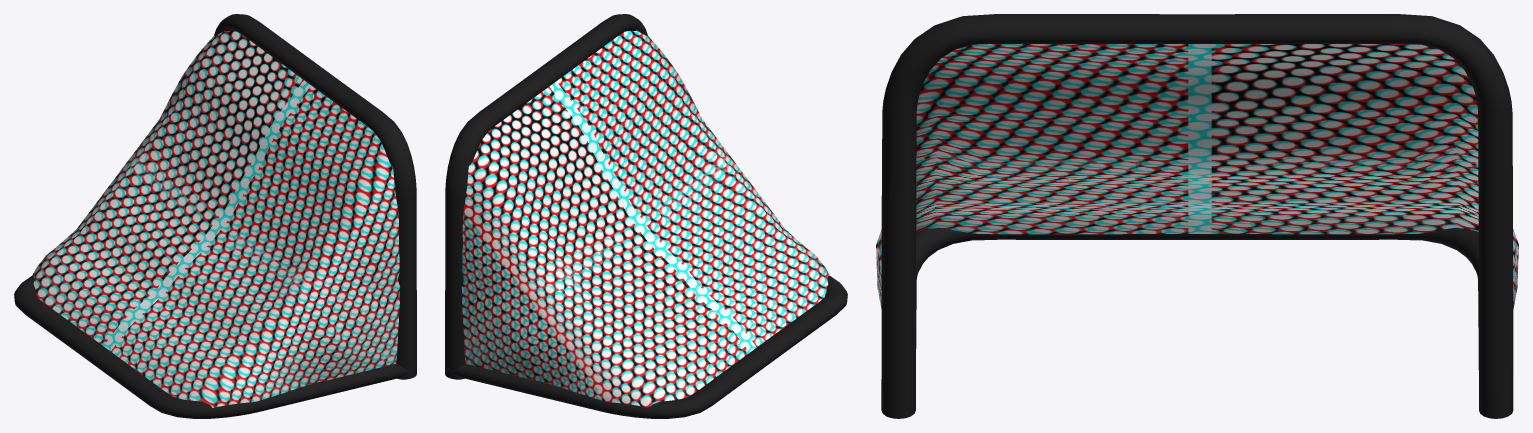
The model's file is hockeyGoalGEO.fbx.
3 views of the same model, side by side, from view 1: azimuth 30°, elevation 25°; view 2: azimuth 150°, elevation 25°; view 3: azimuth 270°, elevation 25° (orthographic). The views are drawn at different scales.
Parts seen in each view (by area): view 1: hockeyGoalNet, hockeyGoalBase; view 2: hockeyGoalNet, hockeyGoalBase; view 3: hockeyGoalNet, hockeyGoalBase.
Part boxes in pixels (x1=…): hockeyGoalNet: x1=32, y1=30, x2=400, y2=407; hockeyGoalBase: x1=14, y1=14, x2=416, y2=418; hockeyGoalNet: x1=461, y1=30, x2=829, y2=407; hockeyGoalBase: x1=445, y1=14, x2=847, y2=418; hockeyGoalNet: x1=876, y1=44, x2=1518, y2=309; hockeyGoalBase: x1=881, y1=14, x2=1513, y2=418.
Bounding box in the file's own units: 0.8456 × 0.8178 × 1.21.
